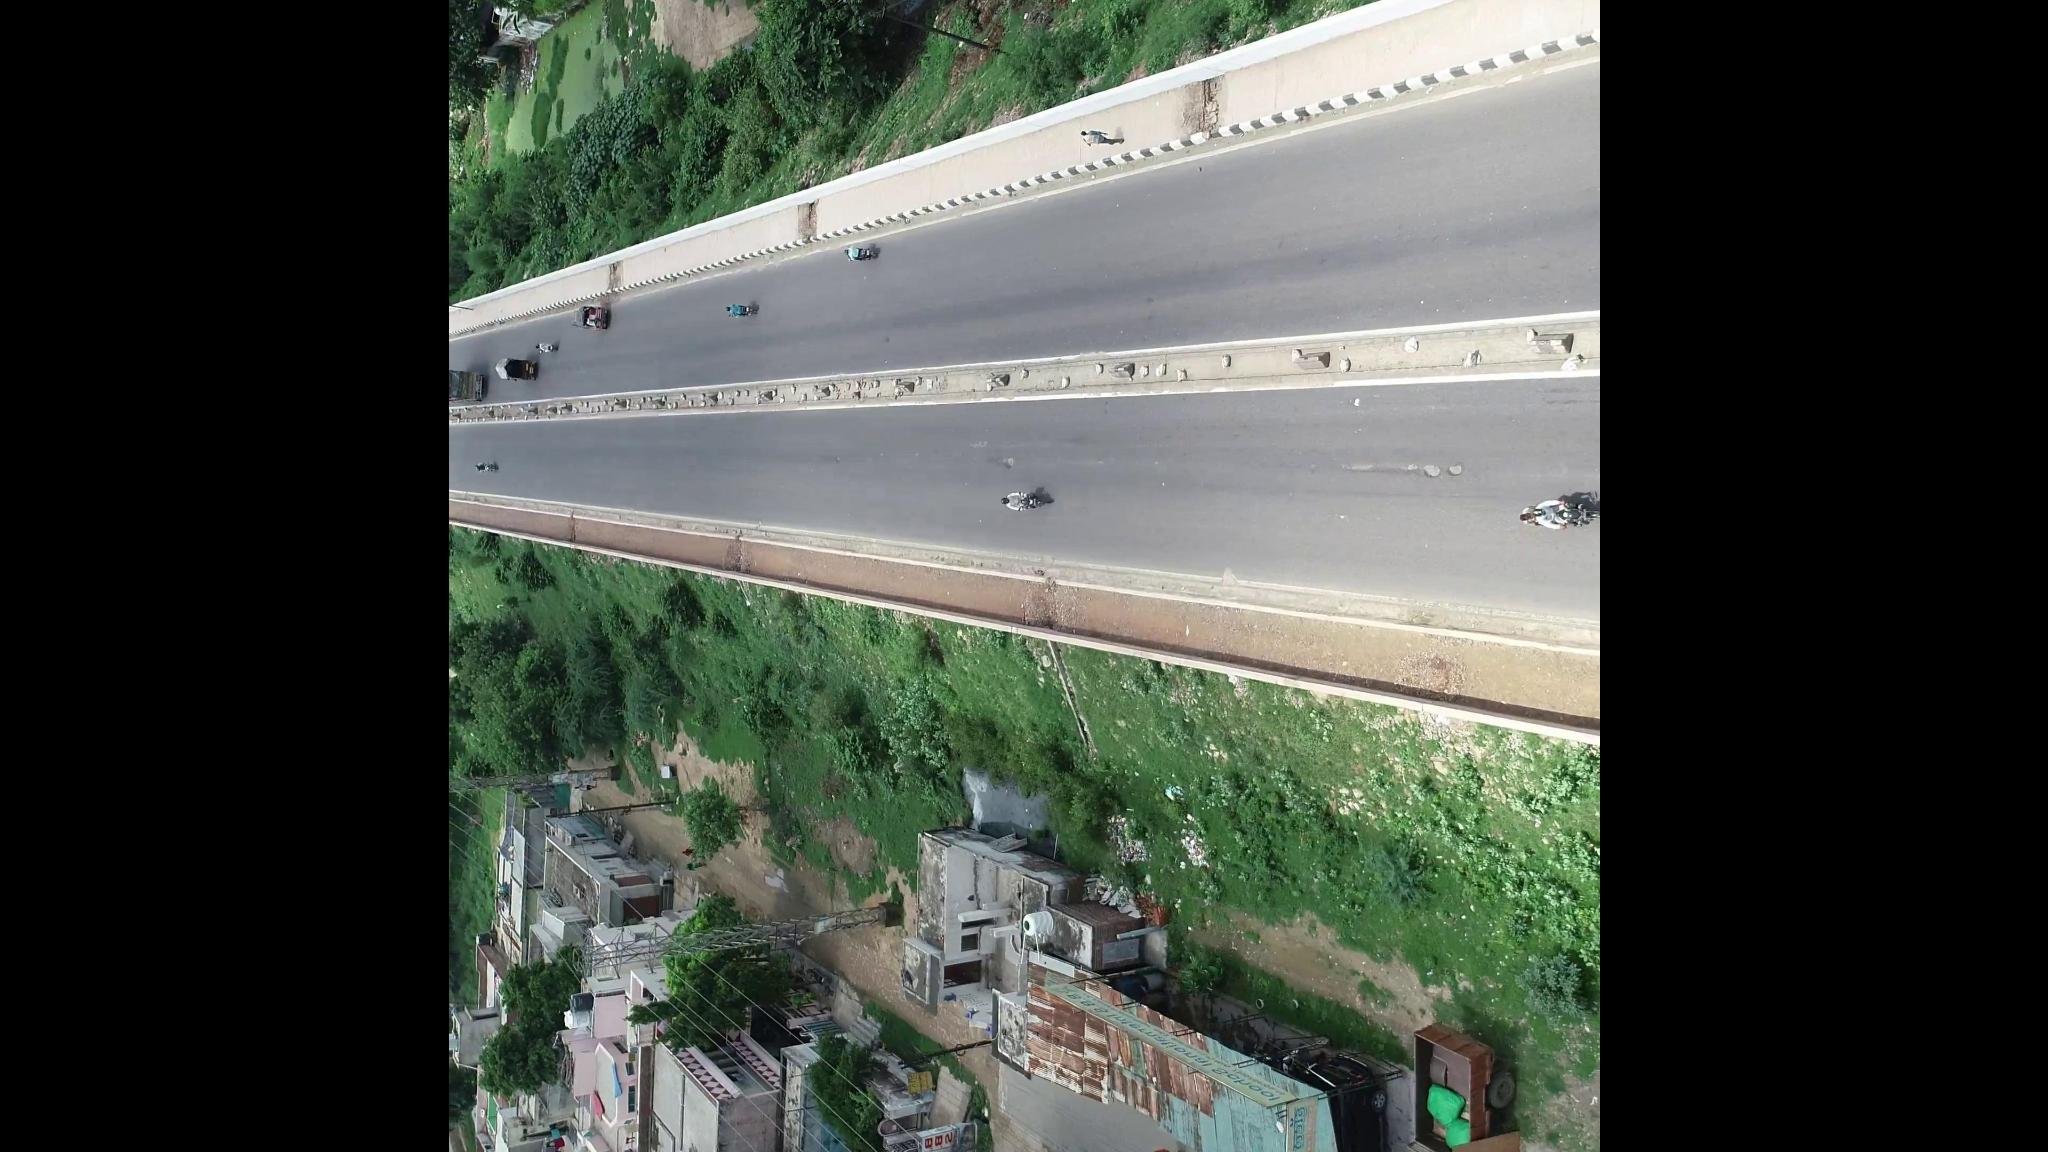Potholes: (1387, 440, 1483, 512), (979, 433, 1030, 485)
